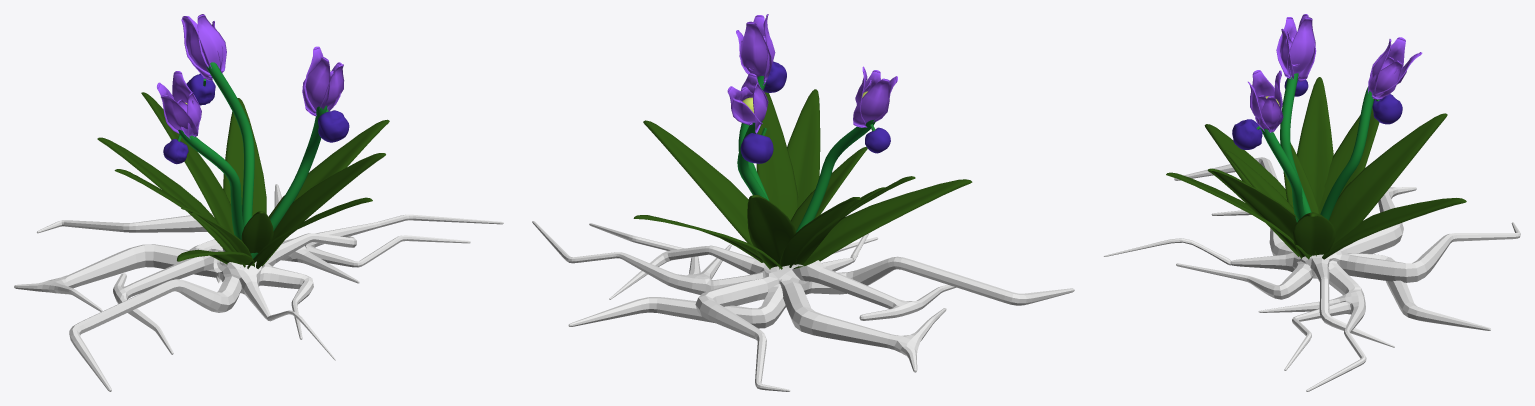
Rendered from Grass0.2root.fbx.
The picture shows the model from 3 angles, left to right: view 1: azimuth 30°, elevation 25°; view 2: azimuth 150°, elevation 25°; view 3: azimuth 270°, elevation 25°; orthographic projection. The views are drawn at different scales.
Visible parts, largest first — view 1: Cube, Leaf.009, Leaf.004, Branch, Leaf.005, Leaf.003, Leaf, Branch.002, Branch.001, petal.008, petal.004, Leaf.006 (+11 smaller); view 2: Cube, Leaf.002, Leaf, Leaf.009, Leaf.001, Leaf.004, Leaf.003, Branch.002, petal.007, petal.015, Leaf.006, Leaf.005 (+6 smaller); view 3: Cube, Leaf.004, Leaf.008, Leaf.009, Leaf.005, Leaf.003, Leaf, Branch, Leaf.002, Branch.002, Branch.001, petal.014 (+11 smaller).
Part boxes in pixels (left/top/right/bottom): Cube: left=14, top=184, right=503, bottom=391; Leaf.009: left=256, top=153, right=385, bottom=268; Leaf.004: left=141, top=92, right=234, bottom=234; Branch: left=206, top=62, right=254, bottom=227; Leaf.005: left=223, top=98, right=266, bottom=216; Leaf.003: left=97, top=137, right=231, bottom=251; Leaf: left=261, top=119, right=389, bottom=266; Branch.002: left=178, top=129, right=243, bottom=239; Branch.001: left=250, top=105, right=327, bottom=258; petal.008: left=302, top=57, right=330, bottom=116; petal.004: left=197, top=14, right=226, bottom=72; Leaf.006: left=241, top=211, right=273, bottom=253; Cube: left=532, top=221, right=1074, bottom=391; Leaf.002: left=795, top=179, right=972, bottom=268; Leaf: left=643, top=120, right=753, bottom=245; Leaf.009: left=756, top=92, right=798, bottom=220; Leaf.001: left=787, top=89, right=820, bottom=209; Leaf.004: left=747, top=195, right=796, bottom=269; Leaf.003: left=779, top=197, right=860, bottom=269; Branch.002: left=796, top=119, right=875, bottom=232; petal.007: left=739, top=21, right=771, bottom=80; petal.015: left=853, top=78, right=890, bottom=127; Leaf.006: left=790, top=146, right=867, bottom=230; Leaf.005: left=633, top=215, right=782, bottom=269; Cube: left=1103, top=157, right=1520, bottom=391; Leaf.004: left=1329, top=113, right=1447, bottom=244; Leaf.008: left=1297, top=77, right=1333, bottom=213; Leaf.009: left=1207, top=168, right=1316, bottom=256; Leaf.005: left=1322, top=198, right=1466, bottom=259; Leaf.003: left=1319, top=99, right=1379, bottom=213; Leaf: left=1292, top=212, right=1335, bottom=258; Branch: left=1320, top=86, right=1374, bottom=220; Leaf.002: left=1204, top=124, right=1287, bottom=200; Branch.002: left=1280, top=73, right=1311, bottom=214; Branch.001: left=1260, top=128, right=1304, bottom=222; petal.014: left=1287, top=17, right=1315, bottom=77.
Size of the model in its own units: 2297 by 1204 by 1867.
